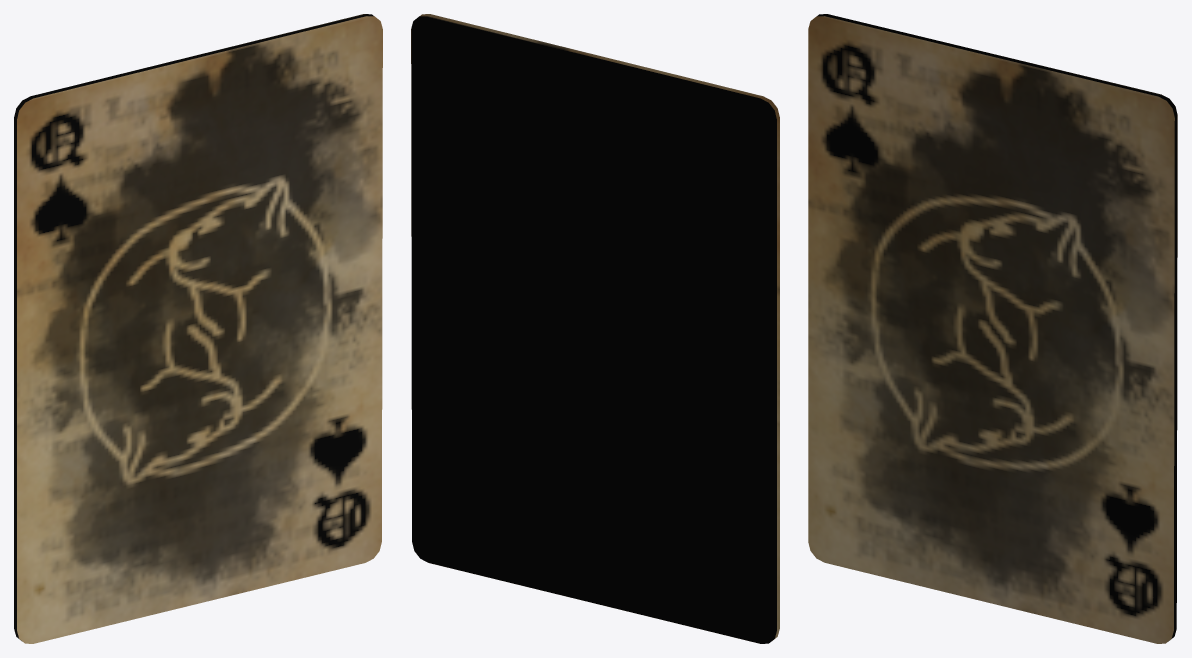
File: Card.025.fbx
3 renders of one model, left to right at view 1: azimuth 30°, elevation 25°; view 2: azimuth 150°, elevation 25°; view 3: azimuth 330°, elevation 25°, orthographic.
Parts seen in each view (by area): view 1: Card.025; view 2: Card.025; view 3: Card.025.
Boxes of the visible parts, x1=… form: Card.025: x1=14, y1=14, x2=382, y2=643; Card.025: x1=411, y1=14, x2=779, y2=643; Card.025: x1=808, y1=14, x2=1177, y2=643.
Bounding box in the file's own units: 11.23 × 16.03 × 0.1561.
